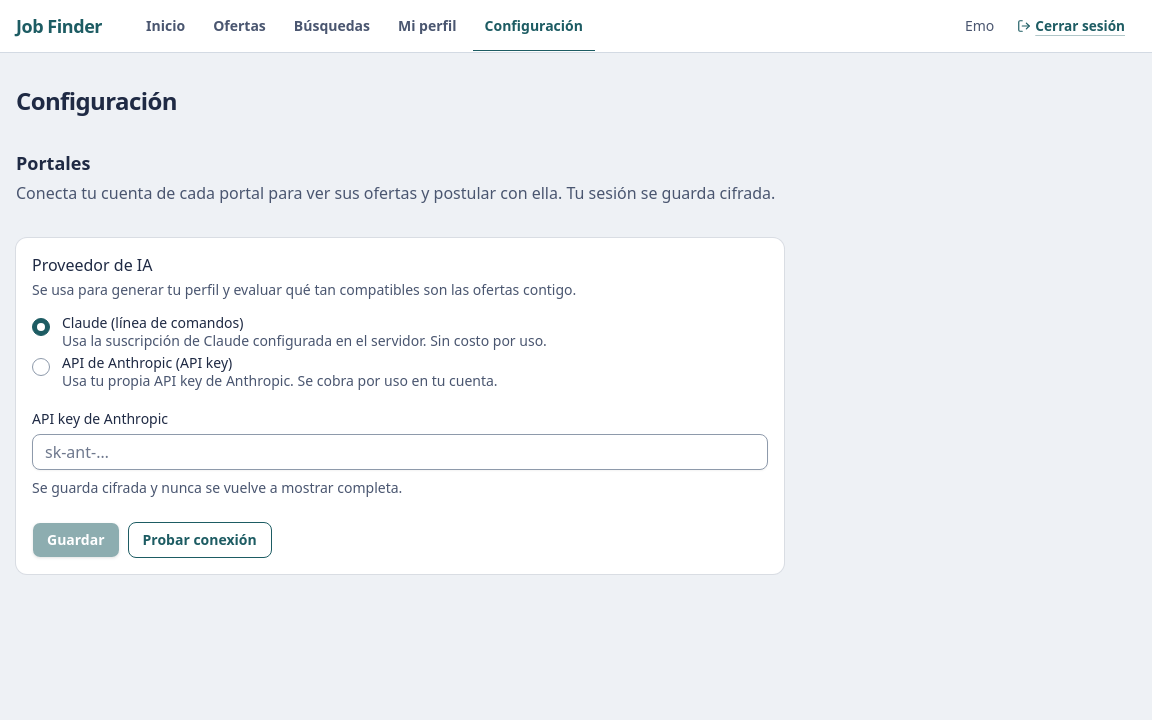
Scenario: Configuración de IA › guarda la API key y después solo muestra sus últimos caracteres
The width and height of the screenshot is (1152, 720).
Click the radio button named "API key" next to "API de Anthropic (API key)": click(41, 367) [32,358,50,376]
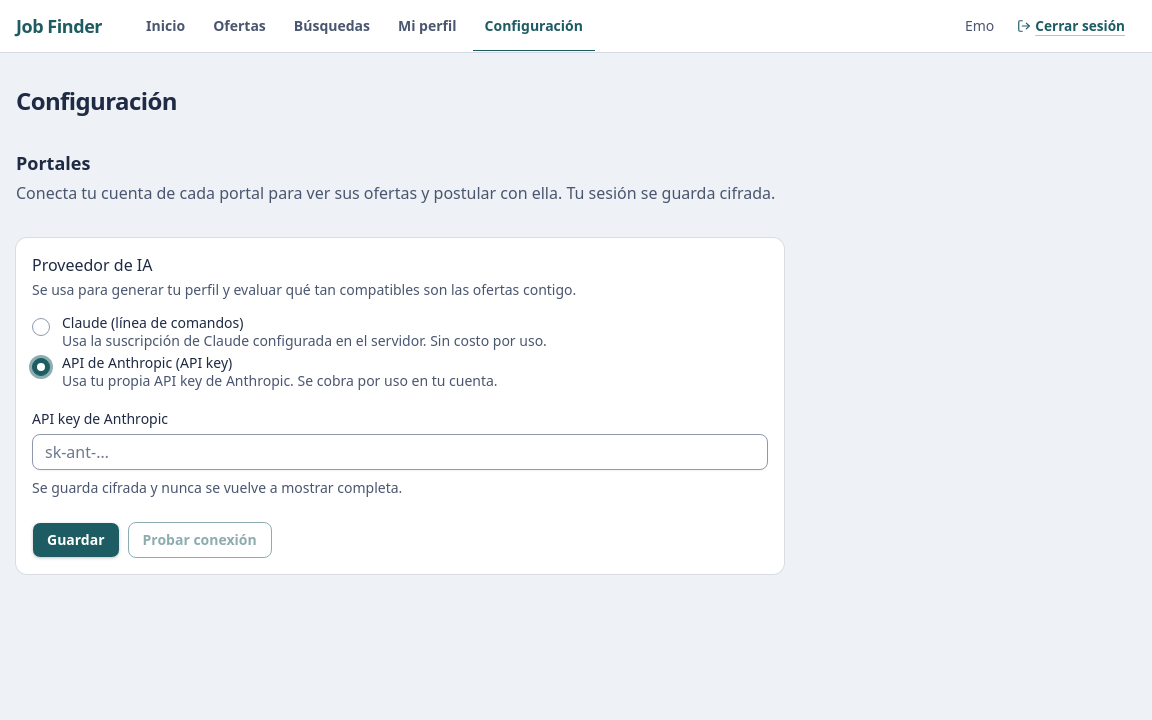
In the password field labelled "API key de Anthropic": (400, 452) [32,434,768,470], type "sk-ant-api03-clave-WXYZ"
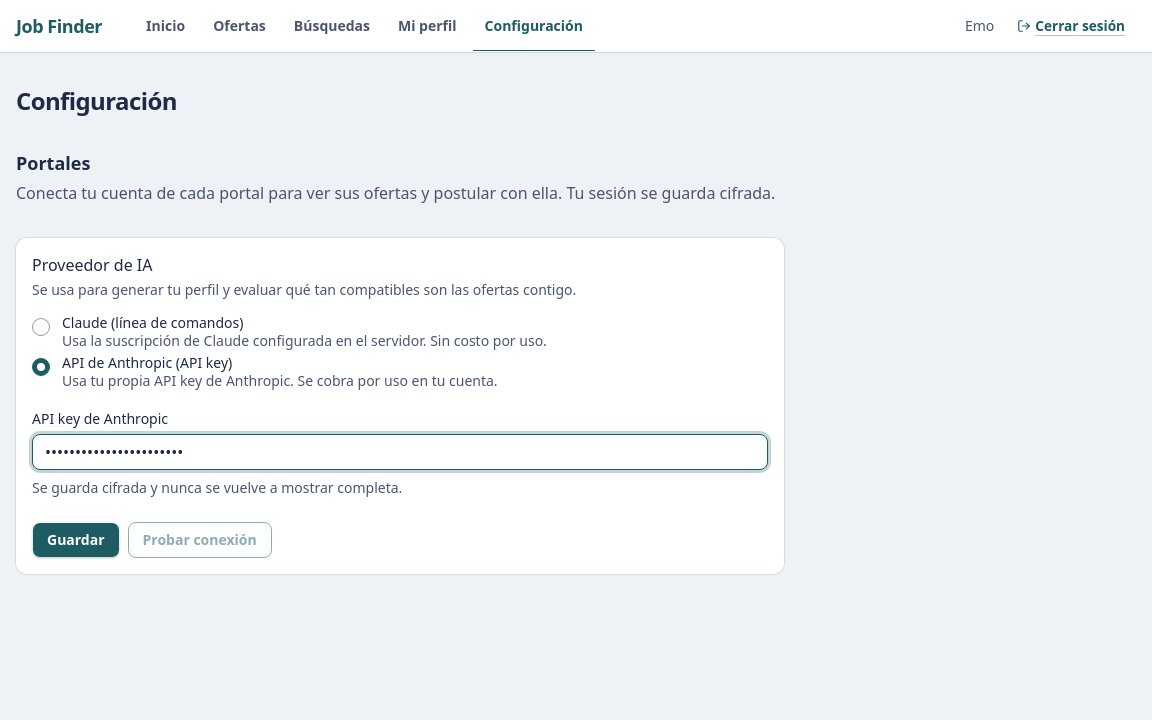
Click the button "Guardar": click(76, 540) [32,522,120,558]
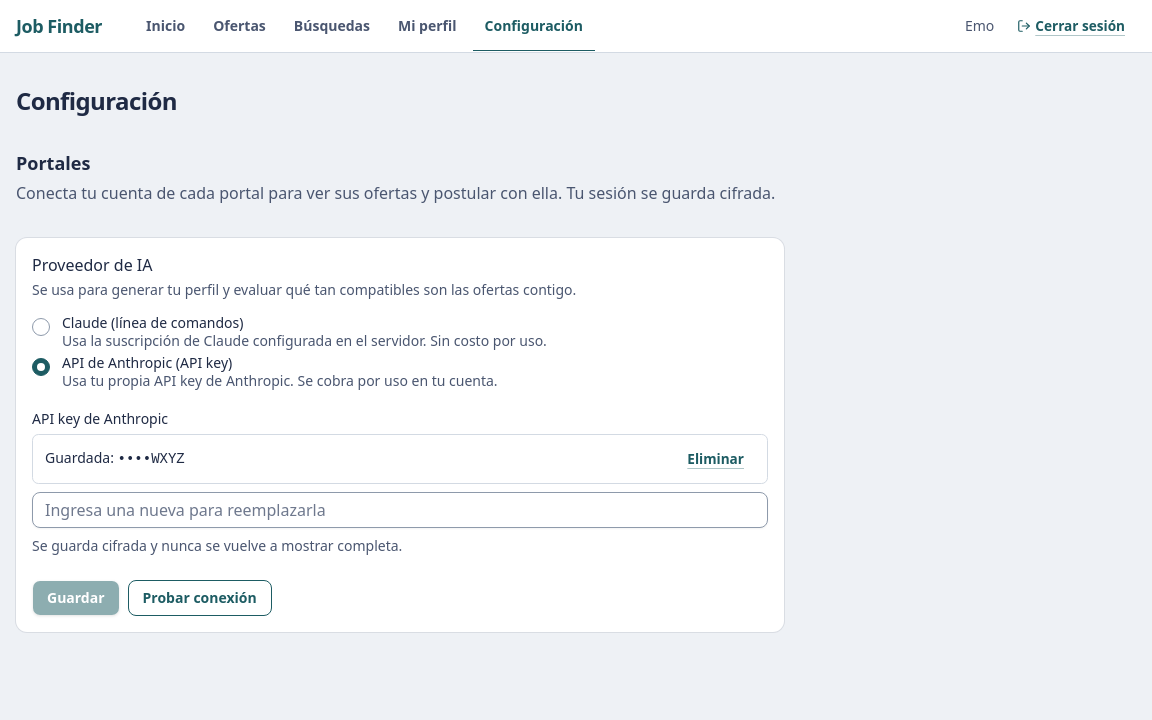
Result: the text "••••WXYZ" is shown at [118,451,185,467]
Result: the password field labelled "API key de Anthropic" is empty at [32,492,768,528]
